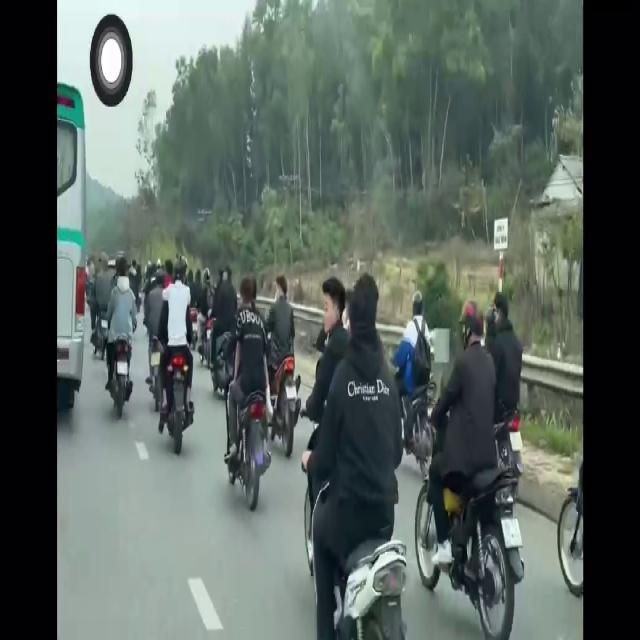helmet: (461, 297, 484, 356), (413, 286, 424, 327)
no_helmet: (320, 272, 345, 331), (240, 272, 256, 310), (275, 270, 288, 308)
